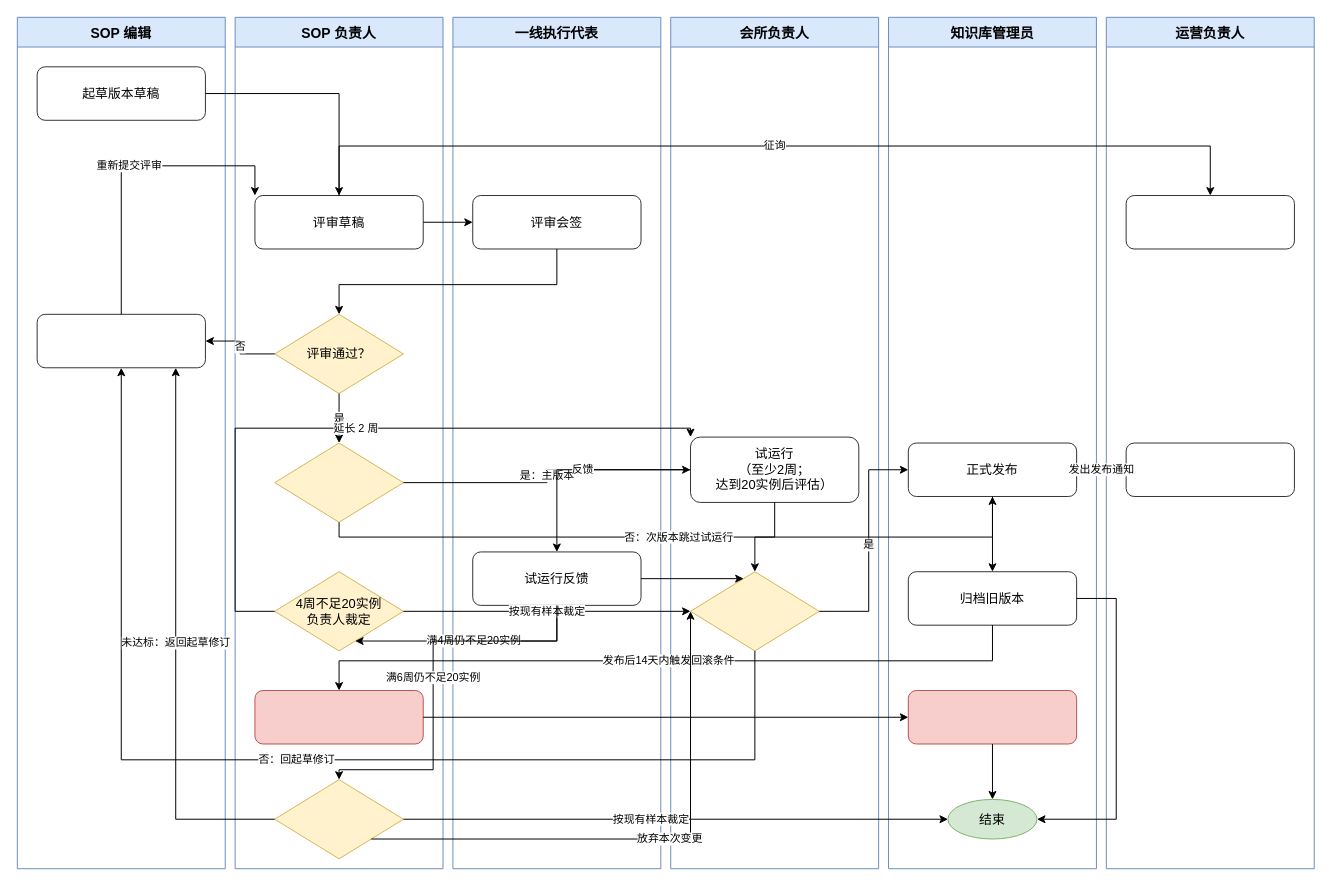
The diagram is 1332 pixels wide and 886 high, and some of its shapes have lost their labels. Here are the shapes that lost their labels. From the top down, the centre of each, then its label:
At pixel 1209 222: "影响评估 （被咨询）".
At pixel 120 340: "按评审意见修订".
At pixel 338 482: "是否主版本？".
At pixel 1209 469: "签收发布通知".
At pixel 754 611: "试运行达标？".
At pixel 338 717: "确认回滚".
At pixel 992 717: "执行回滚 恢复旧版本".
At pixel 338 819: "6周最终裁定 不得再延长".
